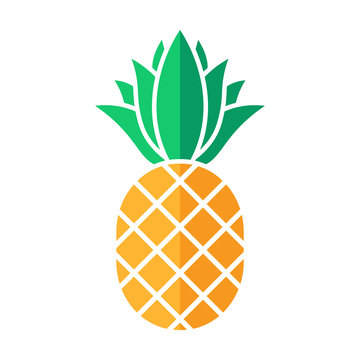Pineapple: (96, 24, 265, 330)
